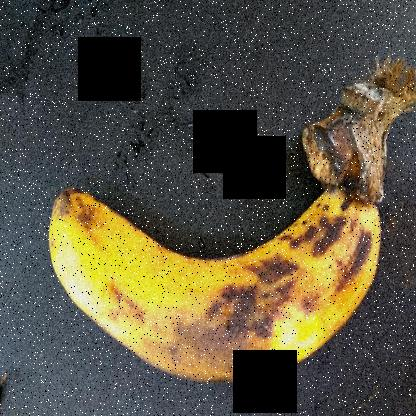overripe: (35, 165, 382, 374)
rotten: (163, 213, 348, 401)
